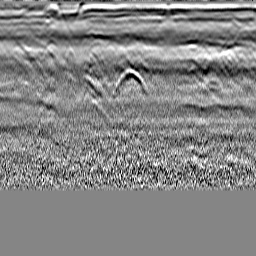cavity: (111, 67, 145, 91)
